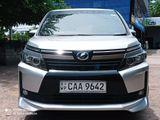car: (17, 9, 155, 117)
